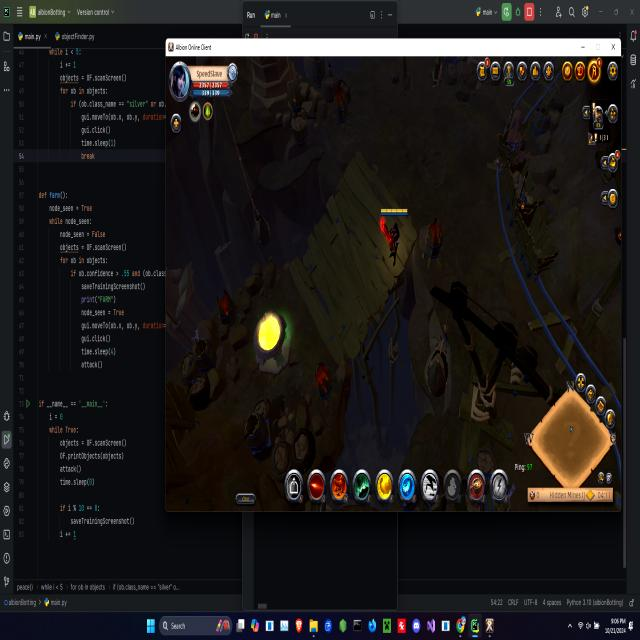fiber: (250, 299, 292, 388)
red: (379, 202, 412, 275)
